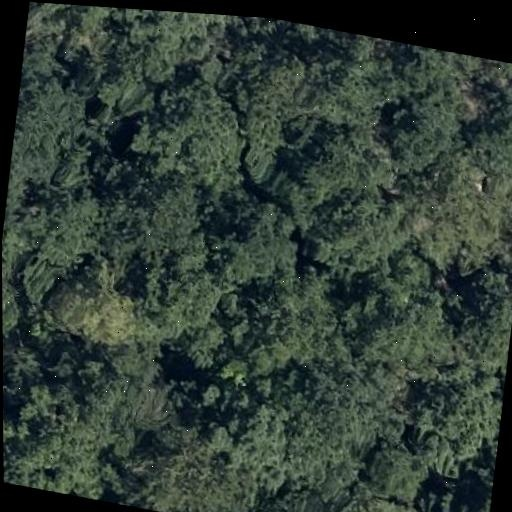tree-top: (278, 116, 419, 283), (129, 60, 259, 197), (3, 370, 128, 504), (337, 266, 460, 398), (111, 417, 247, 512), (197, 179, 306, 294), (7, 63, 94, 203), (404, 365, 501, 489), (39, 255, 152, 355), (450, 267, 512, 370), (334, 484, 435, 512)
